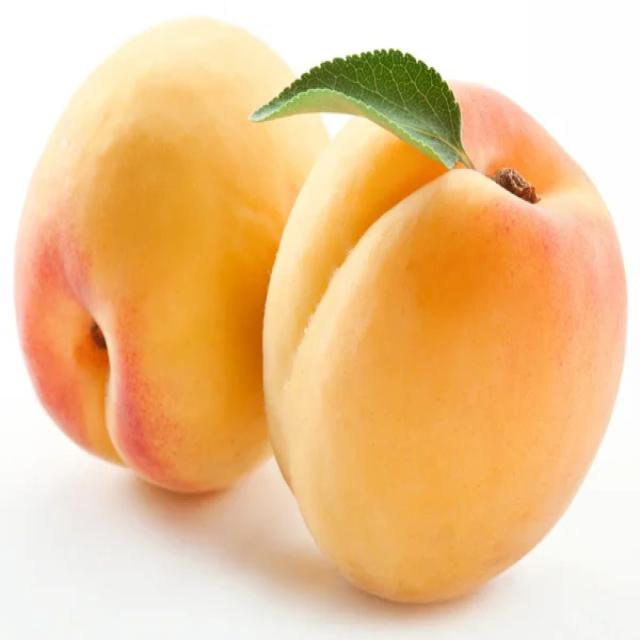kayisi: (280, 174, 613, 568), (27, 32, 243, 453)
kayisi-yapragi: (256, 53, 459, 161)
